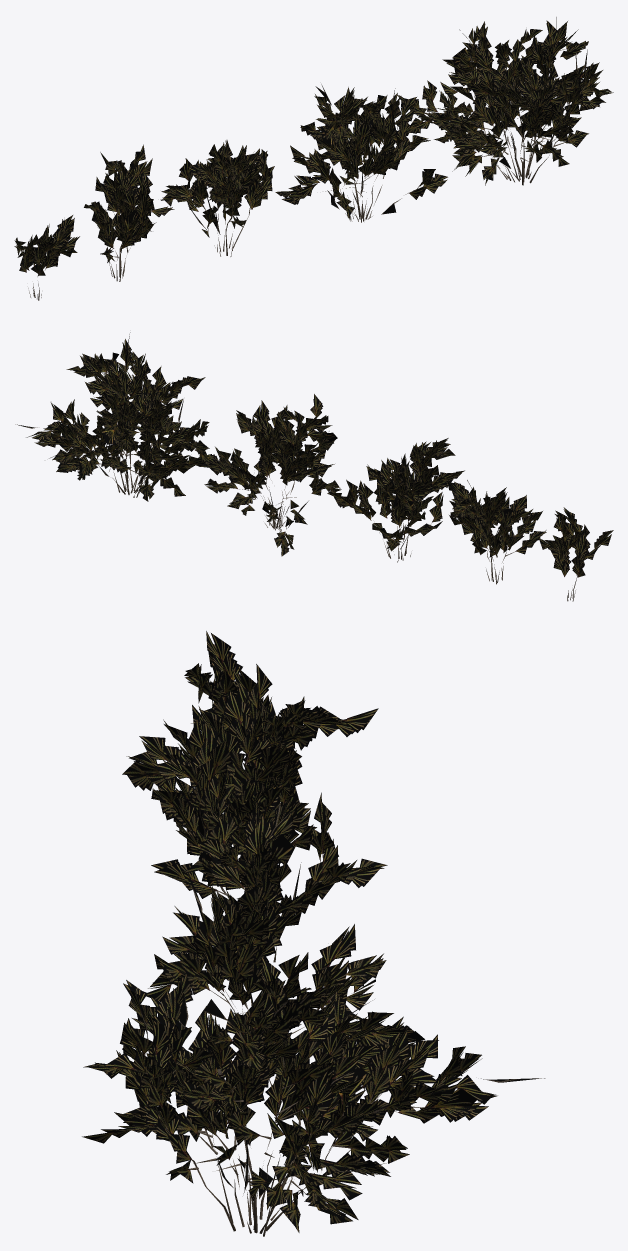
Rendered from assets__ph__wild_rooibos_bush.glb.
3 renders of one model, top to bottom at view 1: azimuth 30°, elevation 25°; view 2: azimuth 150°, elevation 25°; view 3: azimuth 270°, elevation 25°, orthographic. The views are drawn at different scales.
Parts seen in each view (by area): view 1: wild_rooibos_bush_a; view 2: wild_rooibos_bush_a; view 3: wild_rooibos_bush_a.
Part boxes in pixels (x1=…): wild_rooibos_bush_a: x1=14, y1=17, x2=613, y2=300; wild_rooibos_bush_a: x1=15, y1=332, x2=613, y2=601; wild_rooibos_bush_a: x1=82, y1=631, x2=545, y2=1236.
Bounding box in the file's own units: 2.27 × 0.533 × 0.8233.
Materials: 2 (2 with a texture image).
